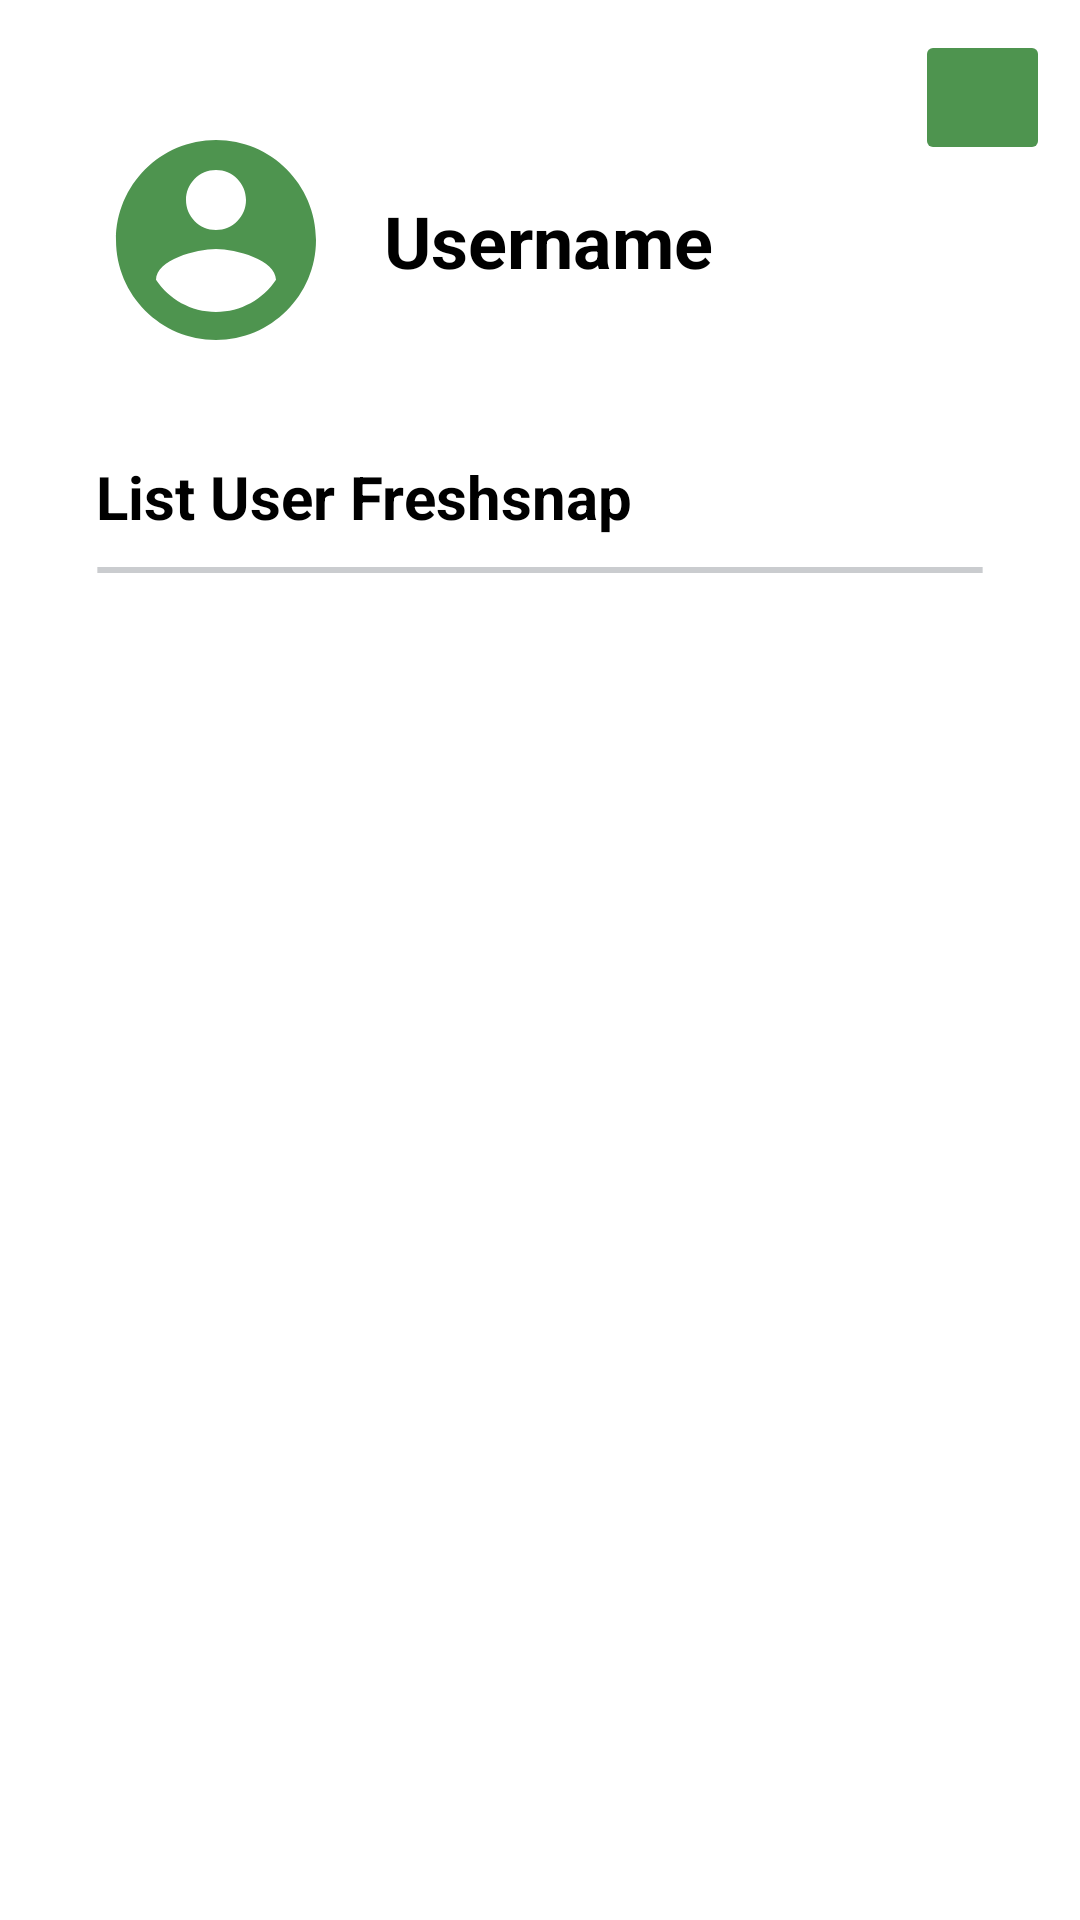

Named icons in this screenshot (1080 × 1920) and their centers, (x,y):
account circle: (216,240)
